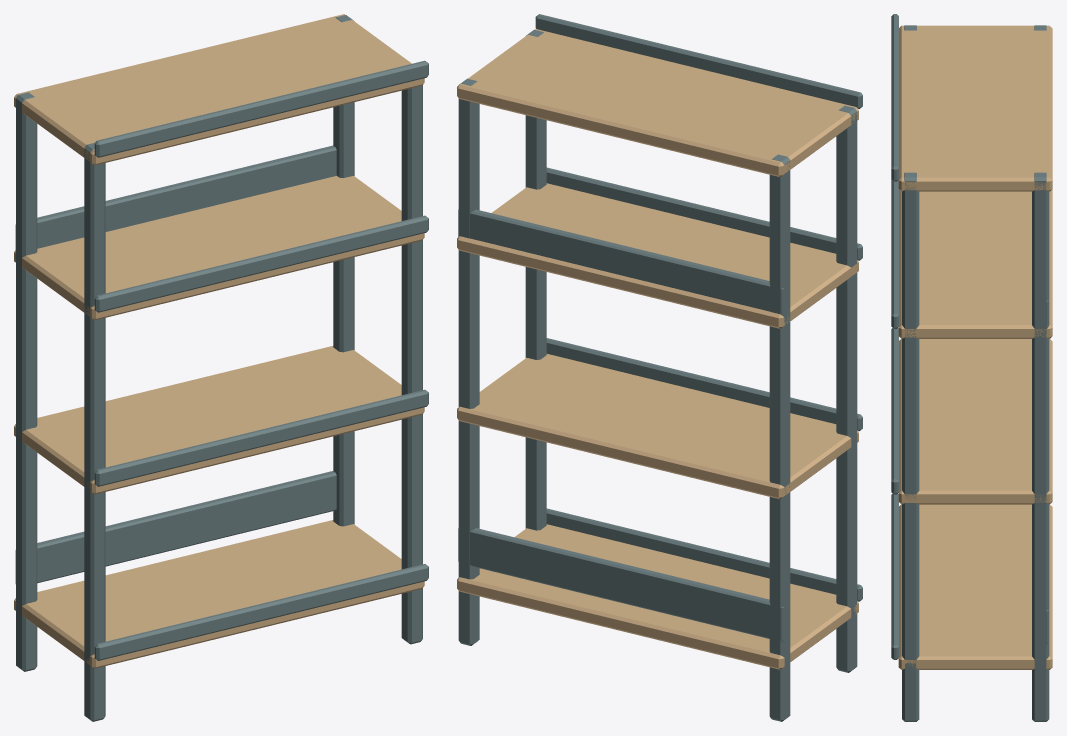
File: Storage-Shelf.fbx
3 views of the same model, side by side, from view 1: azimuth 30°, elevation 25°; view 2: azimuth 150°, elevation 25°; view 3: azimuth 270°, elevation 25° (orthographic). The views are drawn at different scales.
Visible parts, largest first — view 1: Shelf.003, Shelf, Shelf.001, Shelf.002, Upright, Rear Brace, Upright.001, Upright.003, Rear Brace.001, Shelf Lip.002, Shelf Lip.001, Shelf Lip (+2 smaller); view 2: Shelf.003, Shelf.001, Shelf.002, Shelf, Rear Brace, Upright.001, Upright, Upright.002, Rear Brace.001, Upright.003, Shelf Lip.003, Shelf Lip (+2 smaller); view 3: Shelf.003, Shelf.001, Shelf, Shelf.002, Upright.002, Upright.003, Shelf Lip.003, Shelf Lip.001, Shelf Lip, Shelf Lip.002.
Part boxes in pixels (box(x1,y1,x2,y2)): Shelf.003: box(14, 14, 424, 165); Shelf: box(14, 520, 424, 668); Shelf.001: box(14, 346, 424, 494); Shelf.002: box(14, 176, 424, 320); Upright: box(16, 92, 37, 671); Rear Brace: box(15, 471, 336, 583); Upright.001: box(84, 143, 105, 721); Upright.003: box(401, 85, 422, 644); Rear Brace.001: box(15, 145, 336, 258); Shelf Lip.002: box(94, 215, 428, 312); Shelf Lip.001: box(94, 389, 428, 486); Shelf Lip: box(94, 564, 428, 660); Shelf.003: box(457, 29, 858, 176); Shelf.001: box(457, 354, 858, 499); Shelf.002: box(457, 183, 858, 328); Shelf: box(457, 524, 858, 669); Rear Brace: box(458, 528, 784, 641); Upright.001: box(836, 105, 857, 672); Upright: box(769, 154, 790, 721); Upright.002: box(458, 78, 479, 645); Rear Brace.001: box(458, 209, 786, 321); Upright.003: box(525, 29, 546, 530); Shelf Lip.003: box(535, 14, 862, 108); Shelf Lip: box(546, 508, 862, 601); Shelf.003: box(898, 25, 1052, 191); Shelf.001: box(898, 339, 1052, 504); Shelf: box(898, 504, 1052, 669); Shelf.002: box(898, 189, 1052, 338); Upright.002: box(1032, 172, 1049, 721); Upright.003: box(902, 172, 919, 721); Shelf Lip.003: box(891, 14, 898, 181); Shelf Lip.001: box(891, 328, 898, 494); Shelf Lip: box(891, 493, 898, 659); Shelf Lip.002: box(891, 179, 898, 328).
Size of the model in its own units: 0.76 by 1.28 by 0.335.
